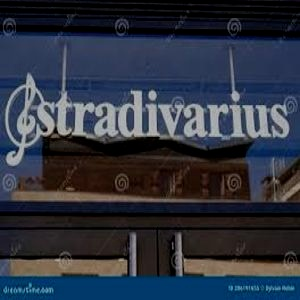stradivarius: (290, 38, 294, 112)
